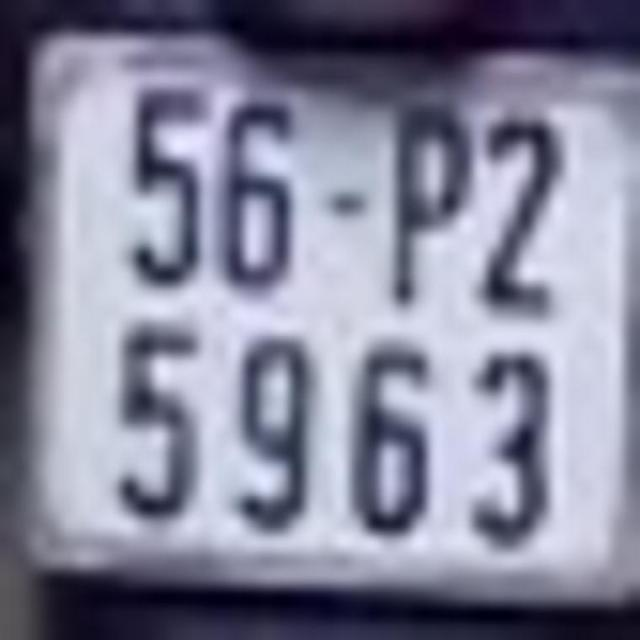2: (481, 111, 562, 314)
3: (461, 339, 555, 544)
5: (116, 312, 211, 521), (130, 79, 209, 282)
6: (360, 322, 428, 536), (221, 97, 294, 282)
9: (231, 311, 313, 539)
P: (382, 92, 470, 311)
